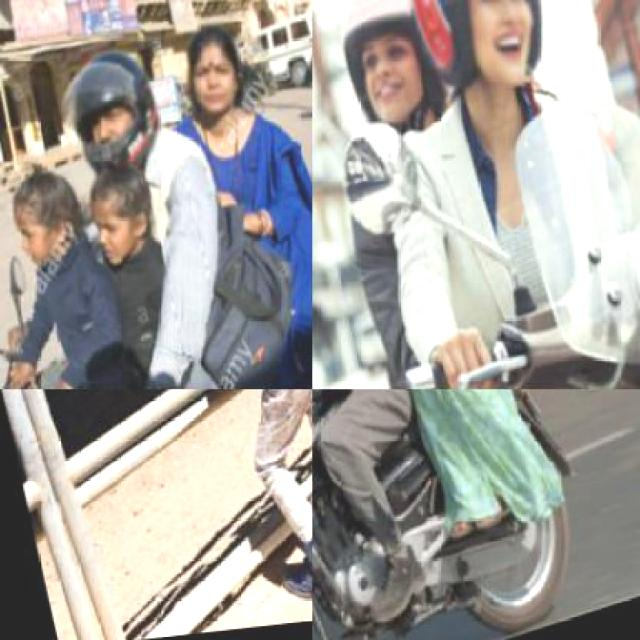With Helmet: (390, 0, 568, 129), (46, 31, 171, 198), (334, 0, 443, 143)
Without Helmet: (174, 21, 254, 148)
